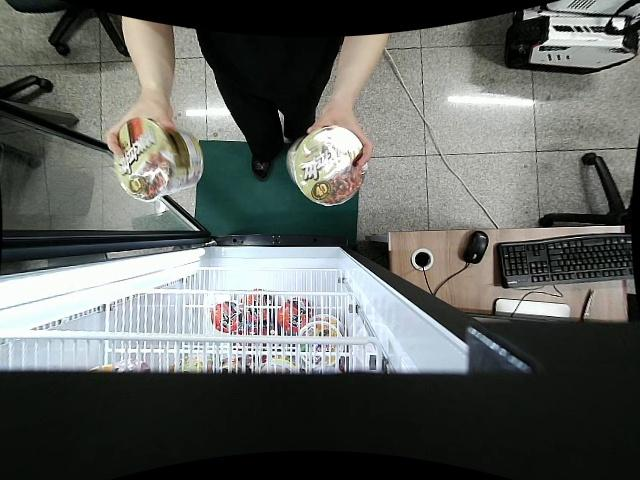00_hand: (306, 104, 373, 170), (105, 98, 175, 159)
03_chapagetti_L: (114, 117, 203, 203), (287, 128, 365, 205)
